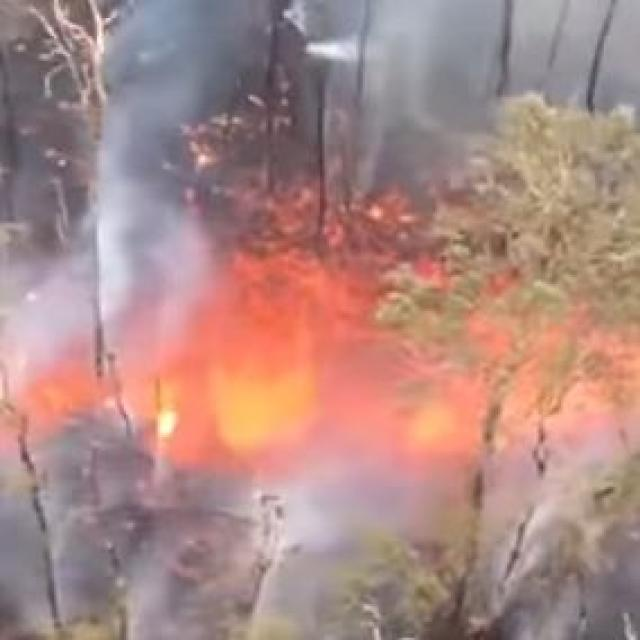Fire: (104, 300, 509, 470)
